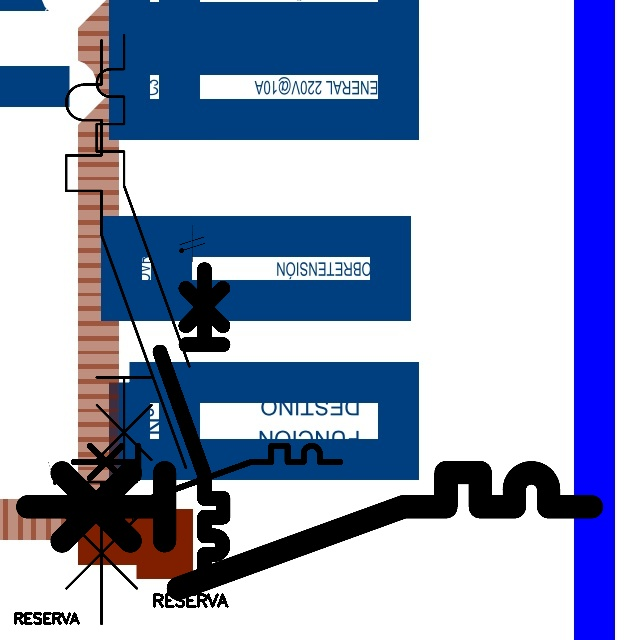interruptor_termomagnetico: (51, 25, 201, 639), (13, 458, 606, 603), (85, 23, 201, 499), (152, 261, 231, 586), (66, 439, 346, 507)
